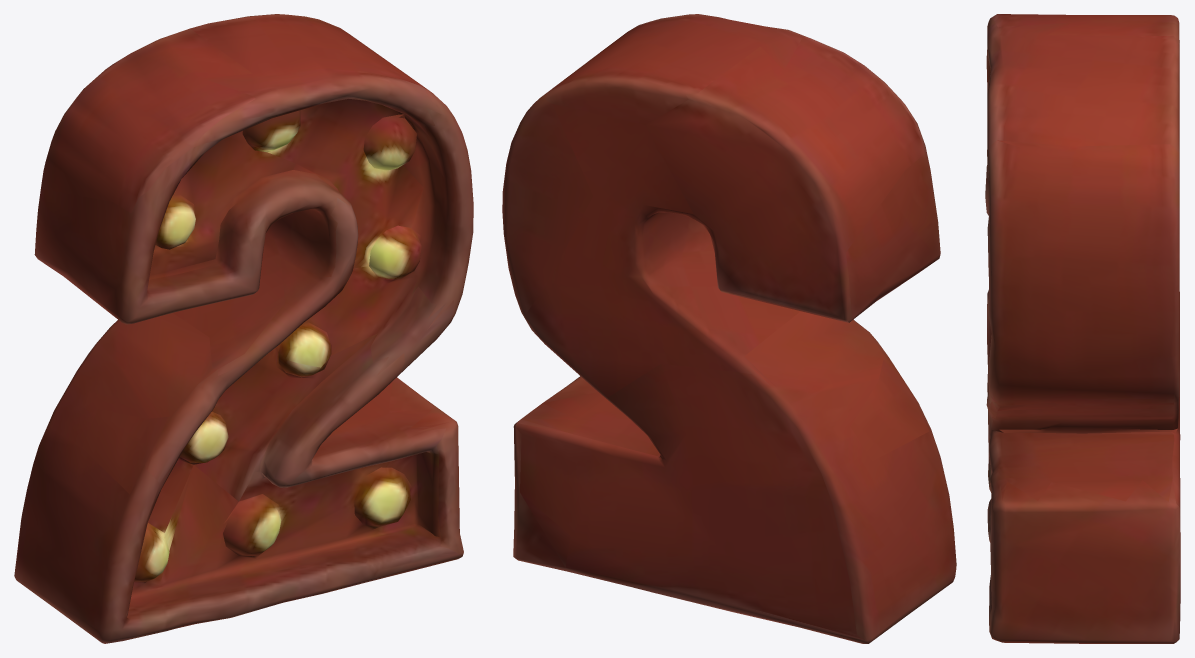
Rendered from digit_2_idle.glb.
3 views of the same model, side by side, from view 1: azimuth 30°, elevation 25°; view 2: azimuth 150°, elevation 25°; view 3: azimuth 270°, elevation 25° (orthographic).
Visible parts, largest first — view 1: tmp_letters_u_z_0_3_06; view 2: tmp_letters_u_z_0_3_06; view 3: tmp_letters_u_z_0_3_06.
Boxes of the visible parts, x1,y1,x2,y2 form: tmp_letters_u_z_0_3_06: (14,14,473,643); tmp_letters_u_z_0_3_06: (502,14,956,643); tmp_letters_u_z_0_3_06: (985,14,1180,643).
Size of the model in its own units: 0.7469 by 0.9867 by 0.3359.
1 material, 1 textured.
